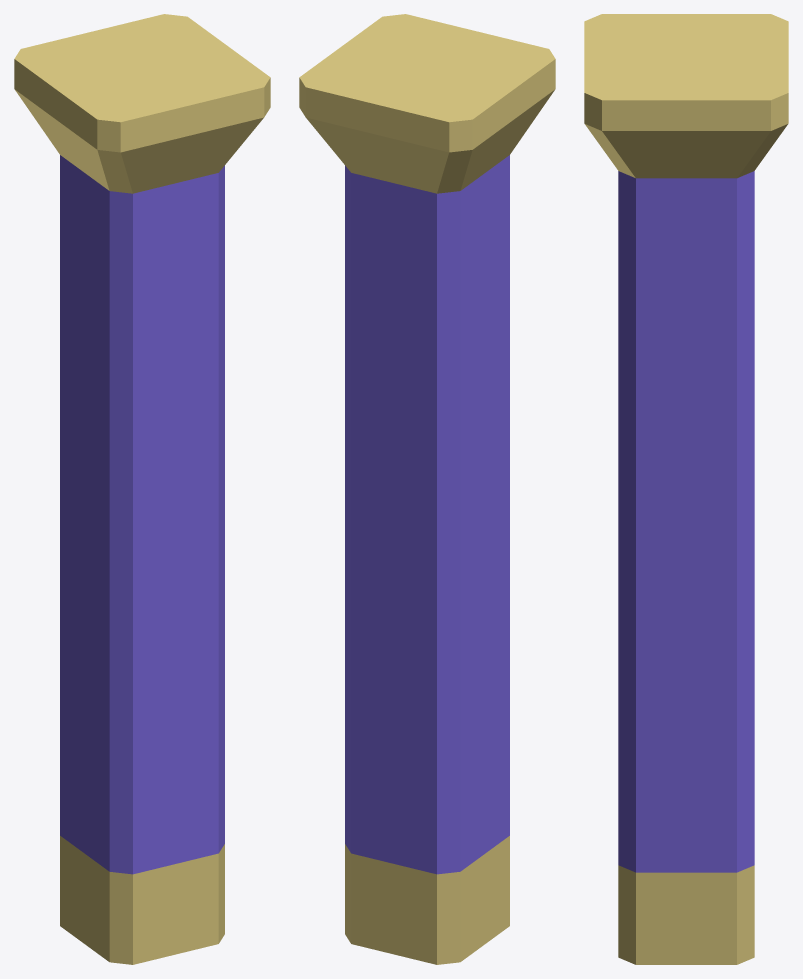
Rendered from Pillar.fbx.
3 renders of one model, left to right at view 1: azimuth 30°, elevation 25°; view 2: azimuth 150°, elevation 25°; view 3: azimuth 270°, elevation 25°, orthographic.
Parts seen in each view (by area): view 1: Pillar_Base; view 2: Pillar_Base; view 3: Pillar_Base.
Boxes of the visible parts, bbox=[...] form: Pillar_Base: bbox=[14, 14, 270, 964]; Pillar_Base: bbox=[299, 14, 555, 964]; Pillar_Base: bbox=[584, 14, 788, 964].
Bounding box in the file's own units: 600 × 2851 × 600.
